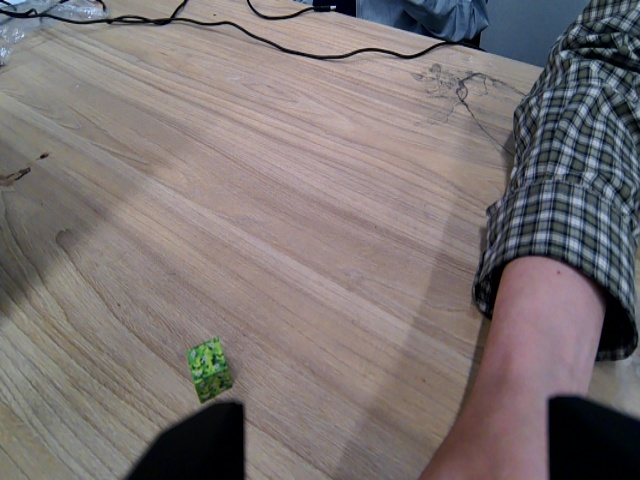grass: (184, 333, 236, 405)
